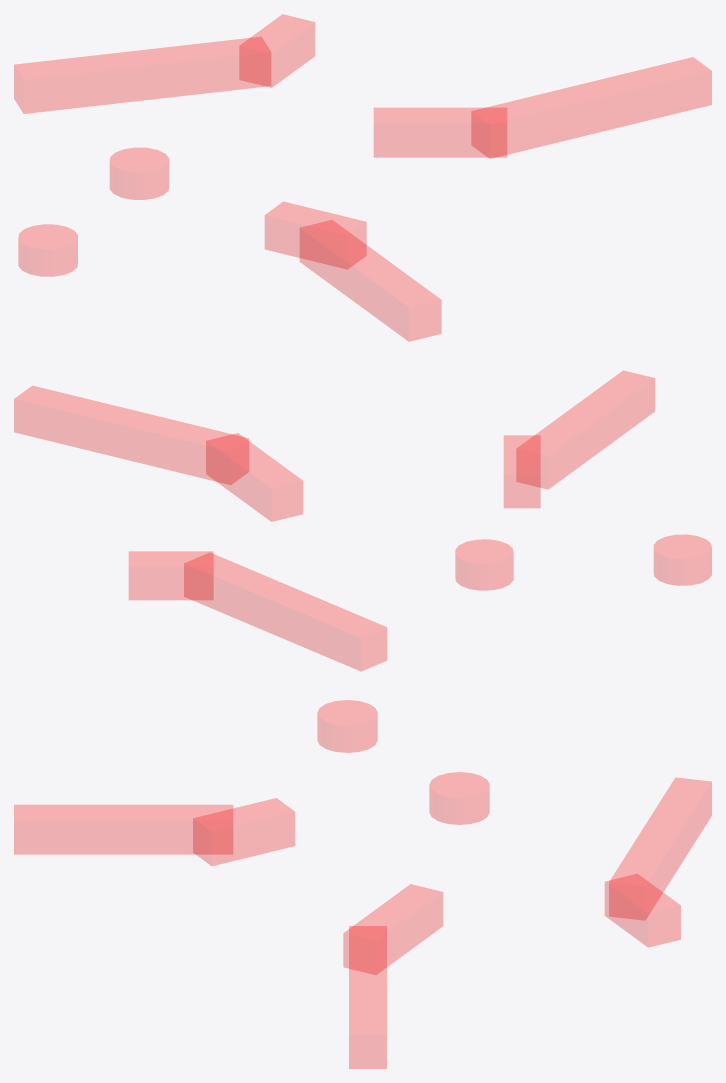
File: s01b_td1-obstacles.glb
The picture shows the model from 3 angles, top to bottom: view 1: azimuth 30°, elevation 25°; view 2: azimuth 150°, elevation 25°; view 3: azimuth 270°, elevation 25°; orthographic projection. The views are drawn at different scales.
Parts seen in each view (by area): view 1: boulder-colonly (×8); view 2: boulder-colonly (×8); view 3: boulder-colonly (×8).
Part boxes in pixels (x1,y1,x2,y2): boulder-colonly (×8): [14, 14, 711, 341]; boulder-colonly (×8): [14, 370, 711, 671]; boulder-colonly (×8): [14, 700, 711, 1068].
Size of the model in its own units: 42.32 by 2 by 36.92.
